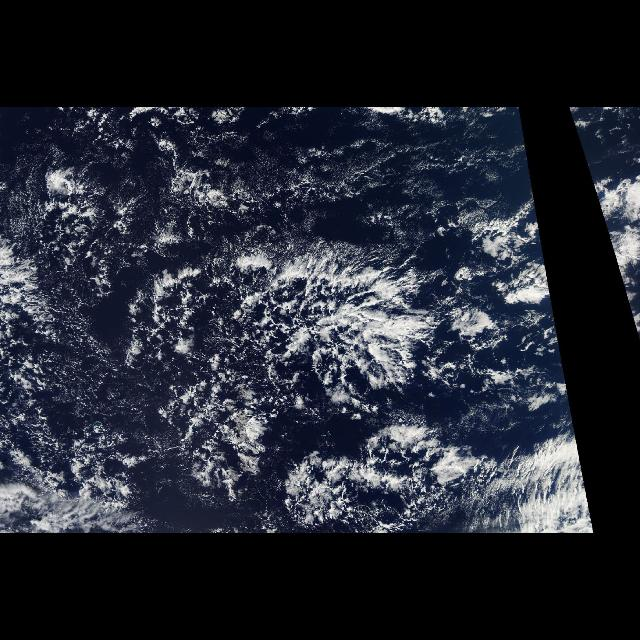Fish: (236, 236, 484, 414)
Gravel: (36, 203, 252, 453)
